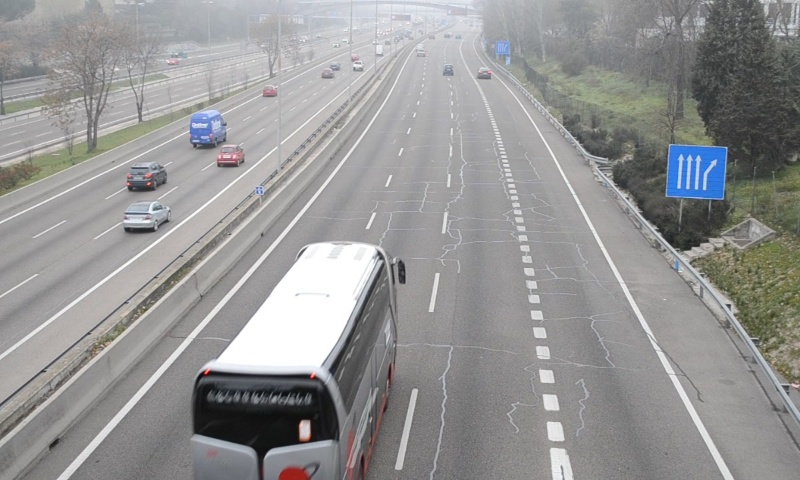bus: (188, 241, 398, 480)
car: (476, 67, 492, 80), (442, 63, 455, 77)
